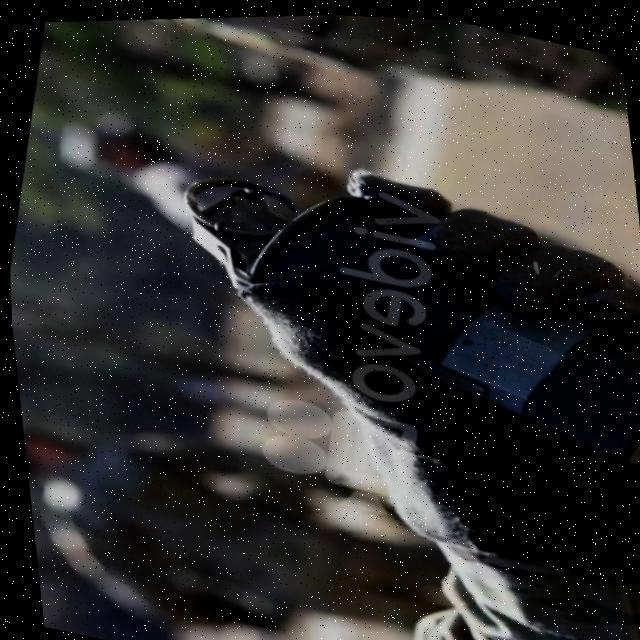grenade: (124, 114, 640, 504)
